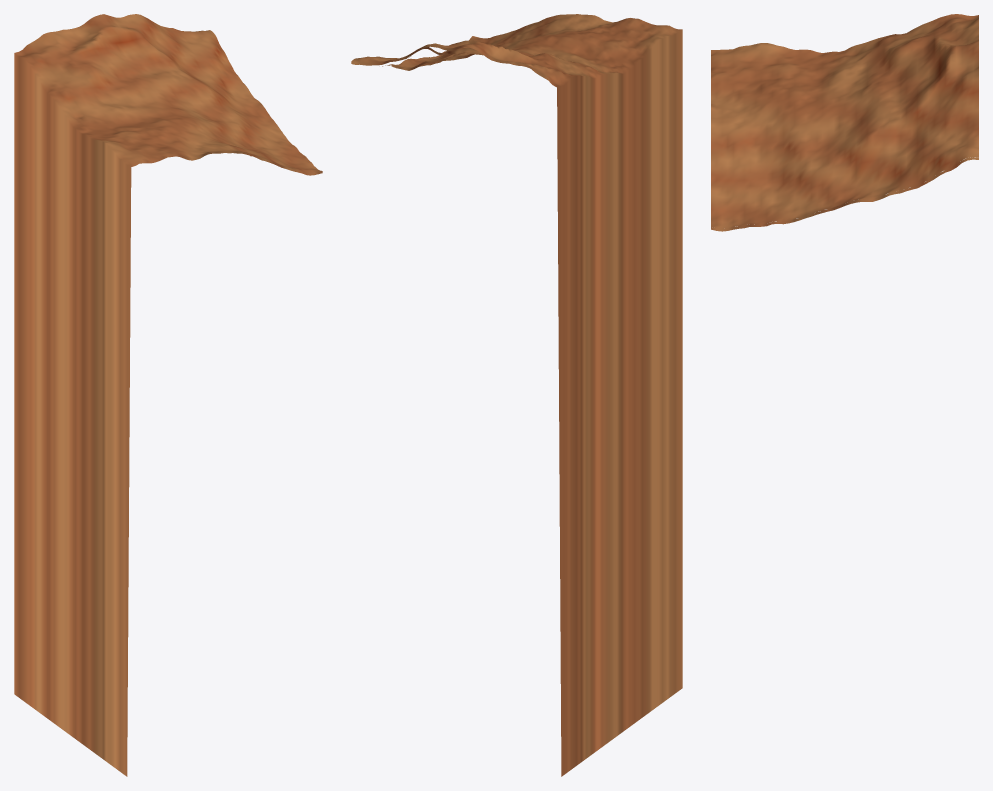
File: terrain-053.glb
3 views of the same model, side by side, from view 1: azimuth 30°, elevation 25°; view 2: azimuth 150°, elevation 25°; view 3: azimuth 270°, elevation 25° (orthographic). The views are drawn at different scales.
Parts seen in each view (by area): view 1: terrain-053; view 2: terrain-053; view 3: terrain-053.
Boxes of the visible parts, x1=… form: terrain-053: x1=14, y1=14, x2=322, y2=776; terrain-053: x1=351, y1=14, x2=682, y2=776; terrain-053: x1=711, y1=14, x2=978, y2=231.
Bounding box in the file's own units: 384 × 1238 × 384.
